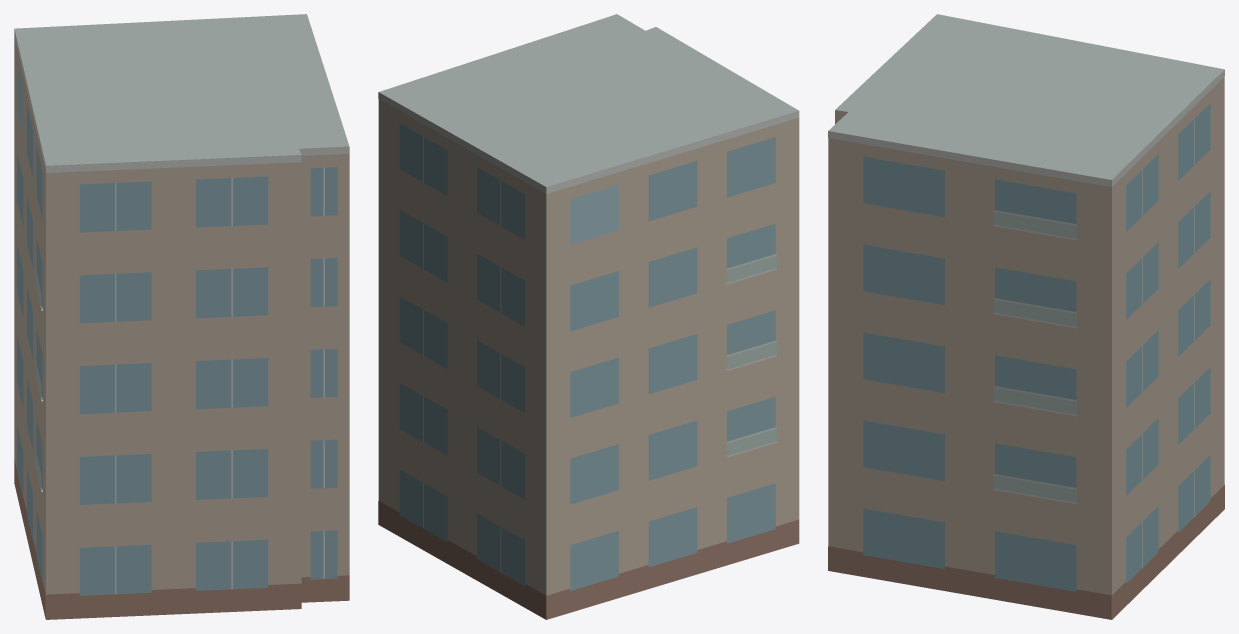
The model's file is survey-upis-32848257.glb.
3 renders of one model, left to right at view 1: azimuth 30°, elevation 25°; view 2: azimuth 150°, elevation 25°; view 3: azimuth 270°, elevation 25°, orthographic. The views are drawn at different scales.
Visible parts, largest first — view 1: survey-upis-32848257.tmp; view 2: survey-upis-32848257.tmp; view 3: survey-upis-32848257.tmp.
Boxes of the visible parts, bbox=[...] form: survey-upis-32848257.tmp: bbox=[14, 14, 349, 619]; survey-upis-32848257.tmp: bbox=[378, 14, 799, 619]; survey-upis-32848257.tmp: bbox=[828, 14, 1224, 619].
Bounding box in the file's own units: 12.36 × 15.25 × 12.47.
